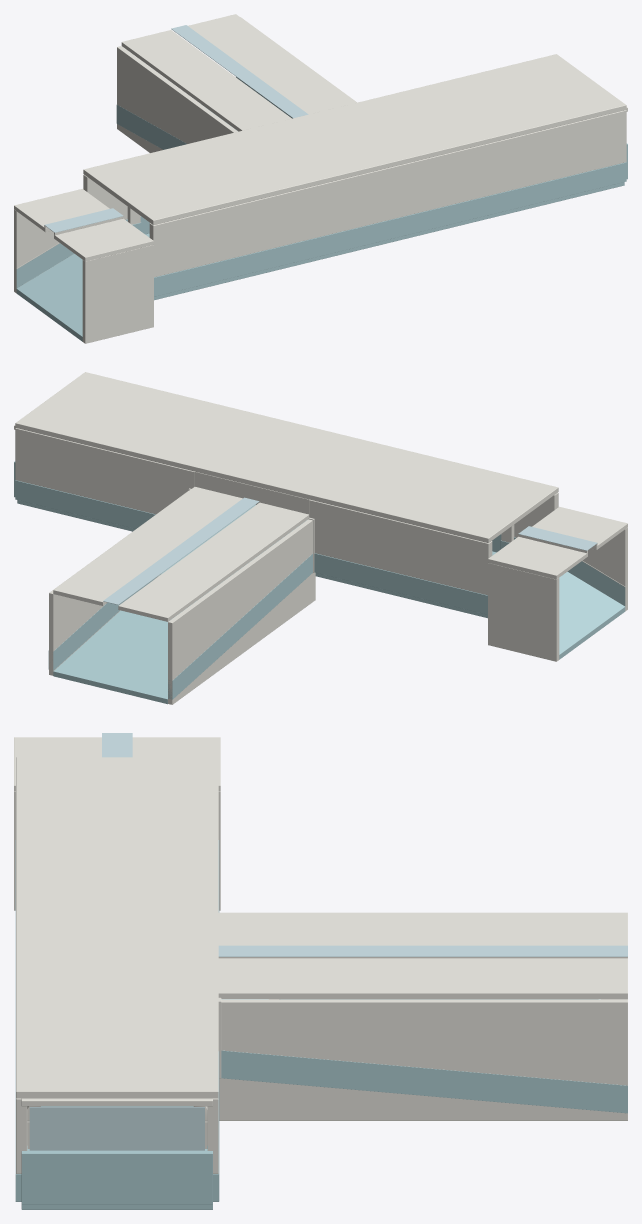
The model's file is formal_arcade.glb.
3 views of the same model, one above another, from view 1: azimuth 30°, elevation 25°; view 2: azimuth 150°, elevation 25°; view 3: azimuth 270°, elevation 25° (orthographic). The views are drawn at different scales.
Visible parts, largest first — view 1: Arcade_Ceiling, Arcade_Wall3, Arcade_Wainscot3, Arcade_NorthVestibule_Roof-1, Arcade_WestVestibule_EnclosureWall1, Arcade_NorthVestibule_Roof1, Arcade_NorthVestibule_SideWall-1, Arcade_WestVestibule, Arcade_WestVestibule_EnclosureRoof1, Arcade_WestVestibule_EnclosureRoof-1, Arcade_Deck, Arcade_NorthVestibule_Glazing (+5 smaller); view 2: Arcade_Ceiling, Arcade_NorthVestibule_SideWall-1, Arcade_NorthWall-7.7, Arcade_NorthWall7.7, Arcade_NorthVestibule_Roof-1, Arcade_NorthVestibule, Arcade_NorthVestibule_Roof1, Arcade_WestVestibule_EnclosureWall-1, Arcade_NorthWainscot-7.7, Arcade_WestVestibule, Arcade_NorthVestibule_TileReturn-1, Arcade_NorthWainscot7.7 (+11 smaller); view 3: Arcade_Ceiling, Arcade_NorthVestibule_SideWall1, Arcade_NorthVestibule_Roof1, Arcade_NorthVestibule_Roof-1, Arcade_NorthVestibule_TileReturn1, Arcade_EastEnd, Arcade_EastWindow, Arcade_NorthVestibule_Glazing, Arcade_WestVestibule_EnclosureRoof-1, Arcade_WestVestibule_EnclosureRoof1, Arcade_EastHeader, Arcade_Deck (+4 smaller).
Part boxes in pixels (box(x1,y1,x2,y2)): Arcade_Ceiling: box(83, 54, 626, 225); Arcade_Wall3: box(149, 110, 626, 277); Arcade_Wainscot3: box(154, 162, 626, 296); Arcade_NorthVestibule_Roof-1: box(121, 30, 291, 131); Arcade_WestVestibule_EnclosureWall1: box(82, 245, 153, 343); Arcade_NorthVestibule_Roof1: box(188, 14, 356, 114); Arcade_NorthVestibule_SideWall-1: box(117, 46, 237, 152); Arcade_WestVestibule: box(16, 254, 82, 341); Arcade_WestVestibule_EnclosureRoof1: box(54, 218, 153, 261); Arcade_WestVestibule_EnclosureRoof-1: box(14, 189, 109, 232); Arcade_Deck: box(145, 182, 624, 300); Arcade_NorthVestibule_Glazing: box(171, 25, 308, 118); Arcade_Ceiling: box(15, 372, 558, 542); Arcade_NorthVestibule_SideWall-1: box(168, 519, 315, 704); Arcade_NorthWall-7.7: box(309, 499, 492, 595); Arcade_NorthWall7.7: box(15, 428, 194, 514); Arcade_NorthVestibule_Roof-1: box(118, 502, 309, 621); Arcade_NorthVestibule: box(53, 543, 256, 704); Arcade_NorthVestibule_Roof1: box(53, 487, 242, 605); Arcade_WestVestibule_EnclosureWall-1: box(488, 563, 559, 661); Arcade_NorthWainscot-7.7: box(314, 553, 487, 614); Arcade_WestVestibule: box(559, 572, 625, 659); Arcade_NorthVestibule_TileReturn-1: box(168, 554, 312, 699); Arcade_NorthWainscot7.7: box(15, 480, 155, 528); Arcade_Ceiling: box(16, 757, 218, 1098); Arcade_NorthVestibule_SideWall1: box(219, 999, 627, 1120); Arcade_NorthVestibule_Roof1: box(218, 958, 627, 998); Arcade_NorthVestibule_Roof-1: box(218, 912, 627, 945); Arcade_NorthVestibule_TileReturn1: box(221, 1050, 627, 1113); Arcade_EastEnd: box(21, 1149, 212, 1204); Arcade_EastWindow: box(29, 1107, 204, 1150); Arcade_NorthVestibule_Glazing: box(218, 945, 627, 956); Arcade_WestVestibule_EnclosureRoof-1: box(132, 737, 220, 791); Arcade_WestVestibule_EnclosureRoof1: box(14, 737, 101, 791); Arcade_EastHeader: box(21, 1098, 212, 1106); Arcade_Deck: box(21, 1106, 212, 1209).
Size of what is drawn, in the model's own units: 28.57 by 5.31 by 19.24.
